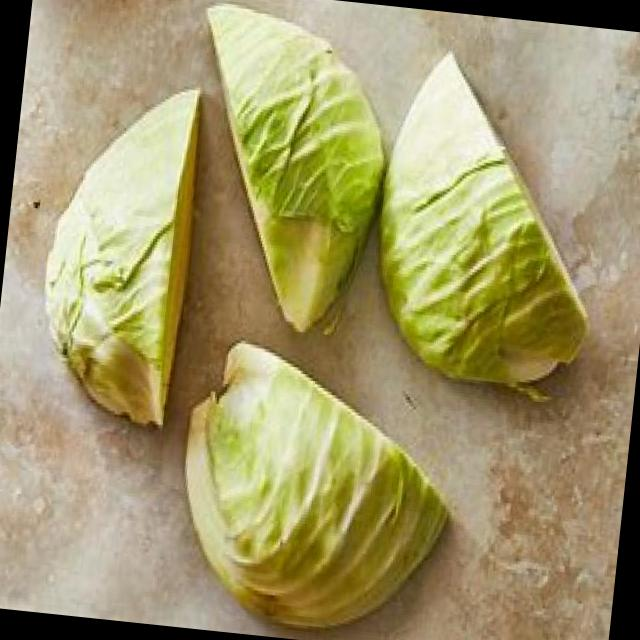cabbage: (356, 44, 614, 402), (158, 347, 464, 635), (163, 0, 401, 340), (22, 90, 211, 428)
